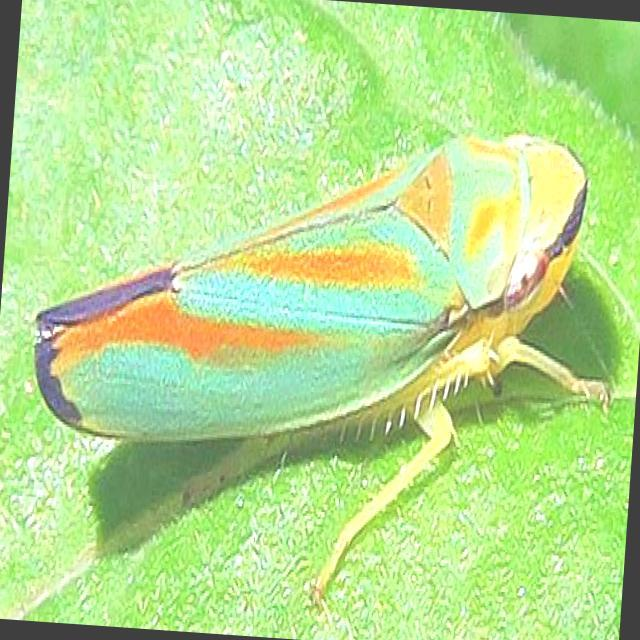green leaf hopper: (34, 134, 609, 599)
